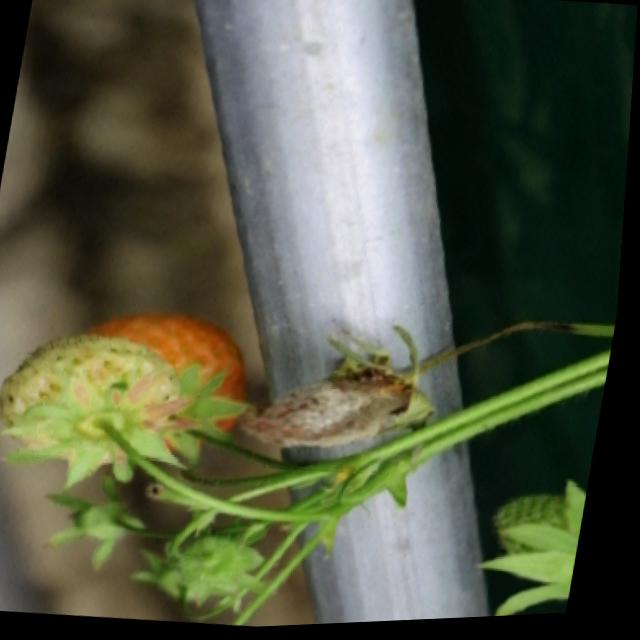Gray Mold: (243, 350, 440, 452)
